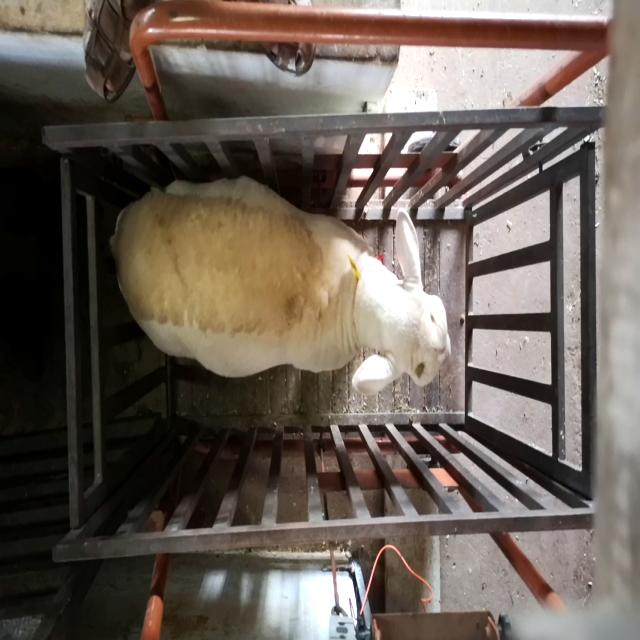sheep: (110, 176, 451, 397)
